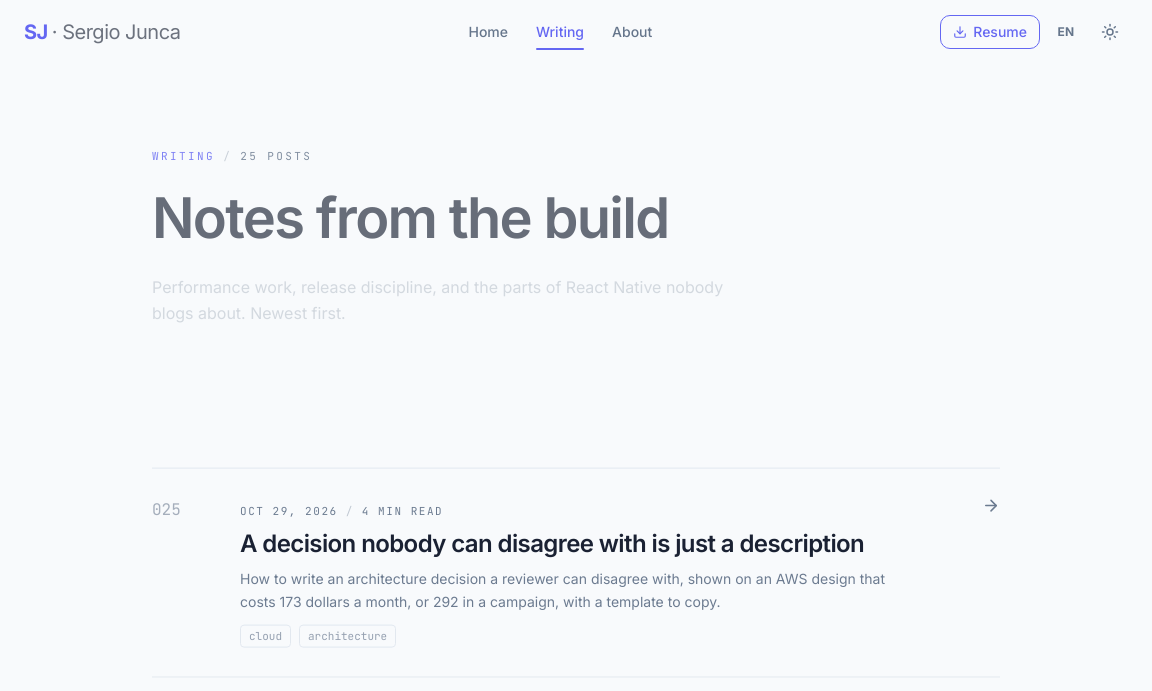
Test case: routing › navigates from the blog index into a post and back
The width and height of the screenshot is (1152, 691).
Click the heading "A decision nobody can disagree with is just a description".
click(592, 543)  # box [240,527,944,559]
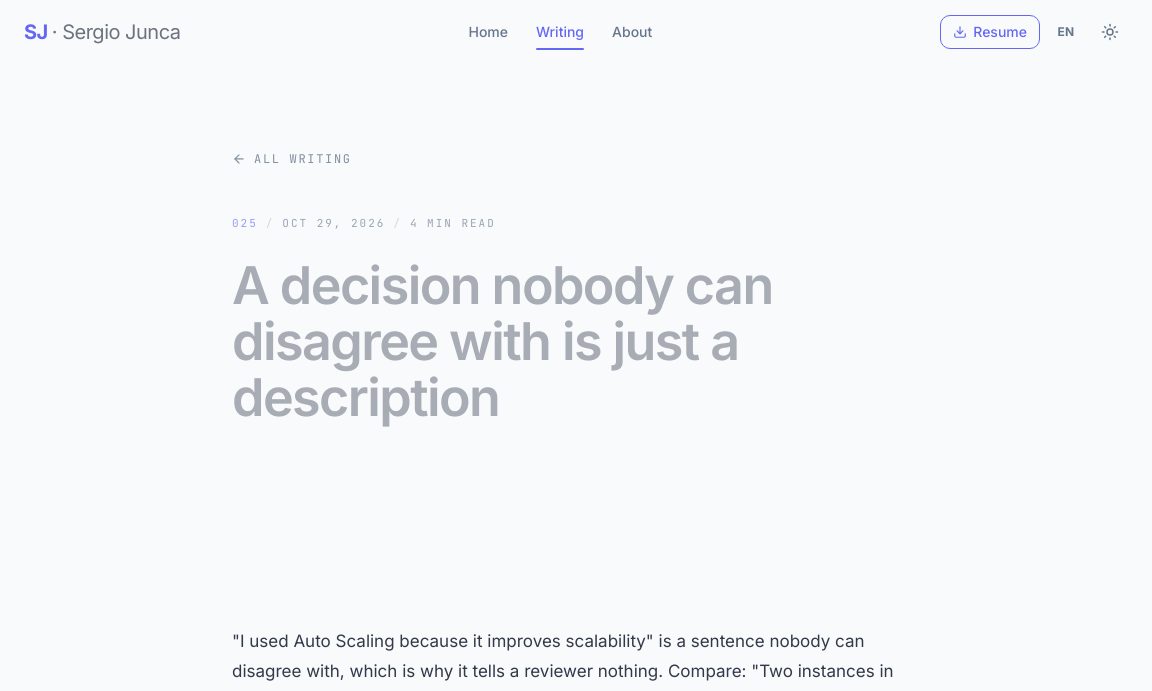
Expected: the heading "A decision nobody can disagree with is just a description" is shown, [232,254,773,429]
Click the link "All writing".
click(292, 159)  # box [232,151,352,167]
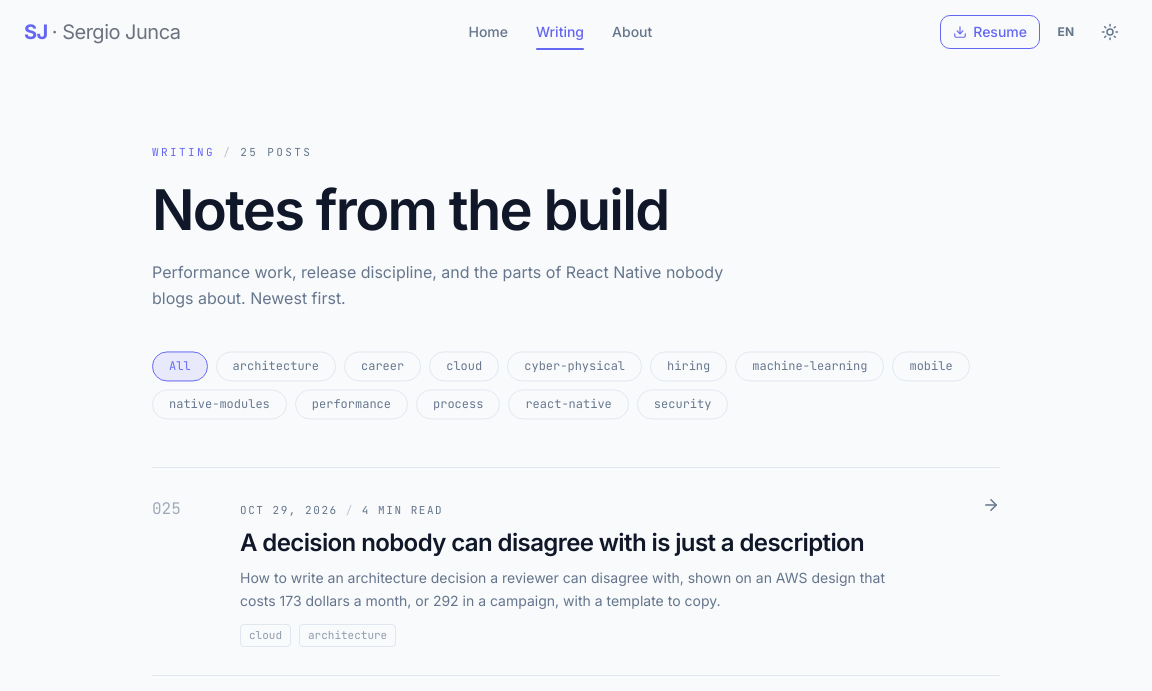
Now the heading "Notes from the build" is shown, box [152,176,668,244]
